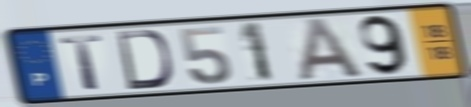1: (238, 20, 275, 86)
5: (176, 24, 233, 87)
9: (357, 13, 411, 77)
A: (296, 16, 368, 84)
D: (114, 29, 175, 92)
T: (57, 33, 107, 92)
